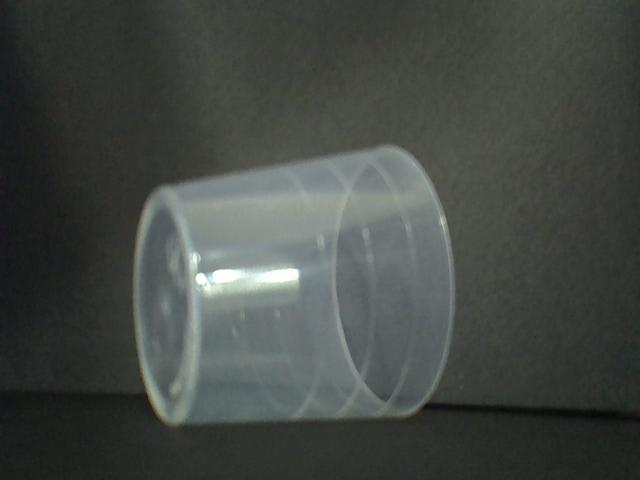cup: (129, 137, 460, 432)
